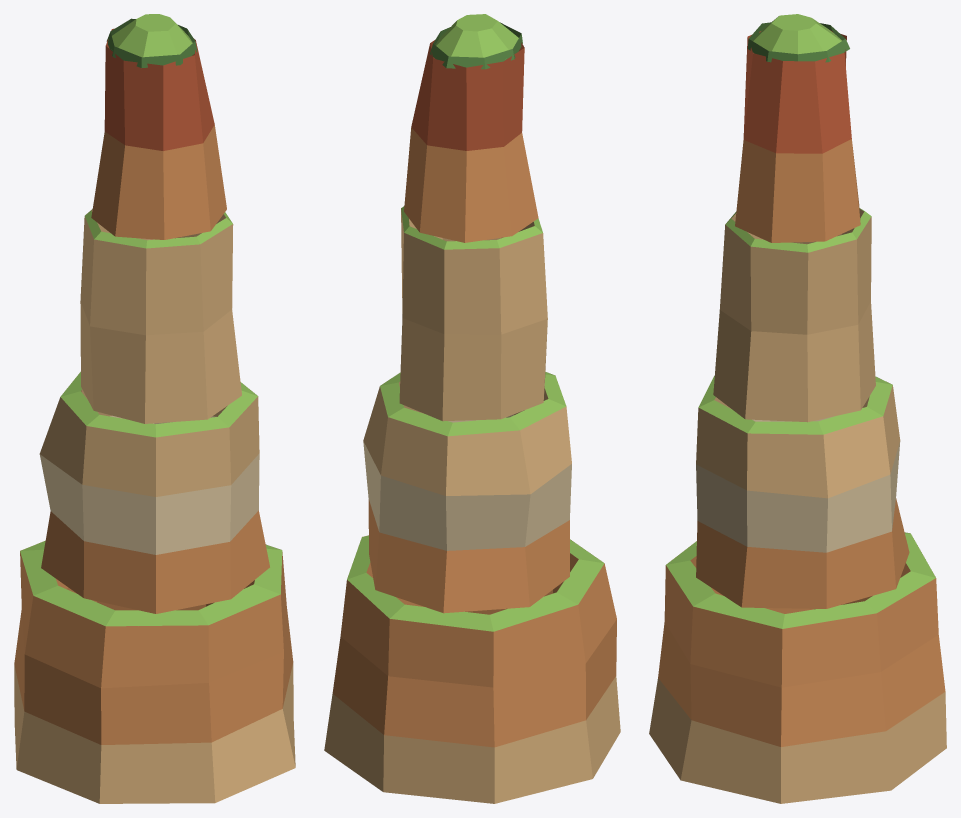
File: rock_spire_a.glb
3 views of the same model, side by side, from view 1: azimuth 30°, elevation 25°; view 2: azimuth 150°, elevation 25°; view 3: azimuth 270°, elevation 25° (orthographic).
Parts seen in each view (by area): view 1: rock_spire_a; view 2: rock_spire_a; view 3: rock_spire_a.
Part boxes in pixels (<box>): rock_spire_a: <box>14,14,295,803</box>; rock_spire_a: <box>324,14,620,803</box>; rock_spire_a: <box>649,14,946,803</box>.
Size of the model in its own units: 11.92 by 31.7 by 11.92.
